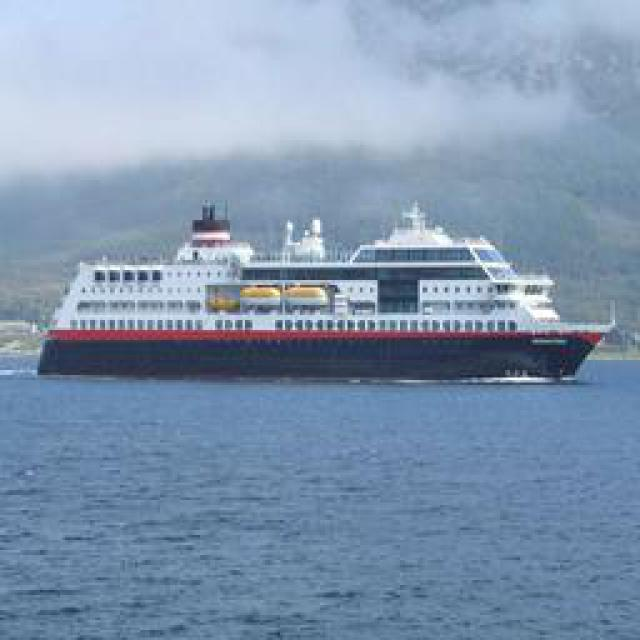Ship: (40, 192, 598, 380)
